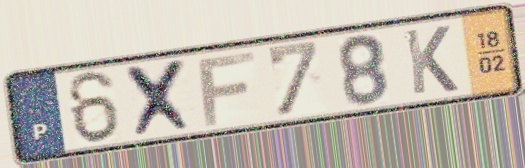6: (65, 68, 123, 147)
7: (265, 38, 321, 120)
8: (336, 32, 391, 108)
F: (195, 48, 259, 129)
K: (401, 23, 462, 97)
X: (122, 55, 199, 141)
